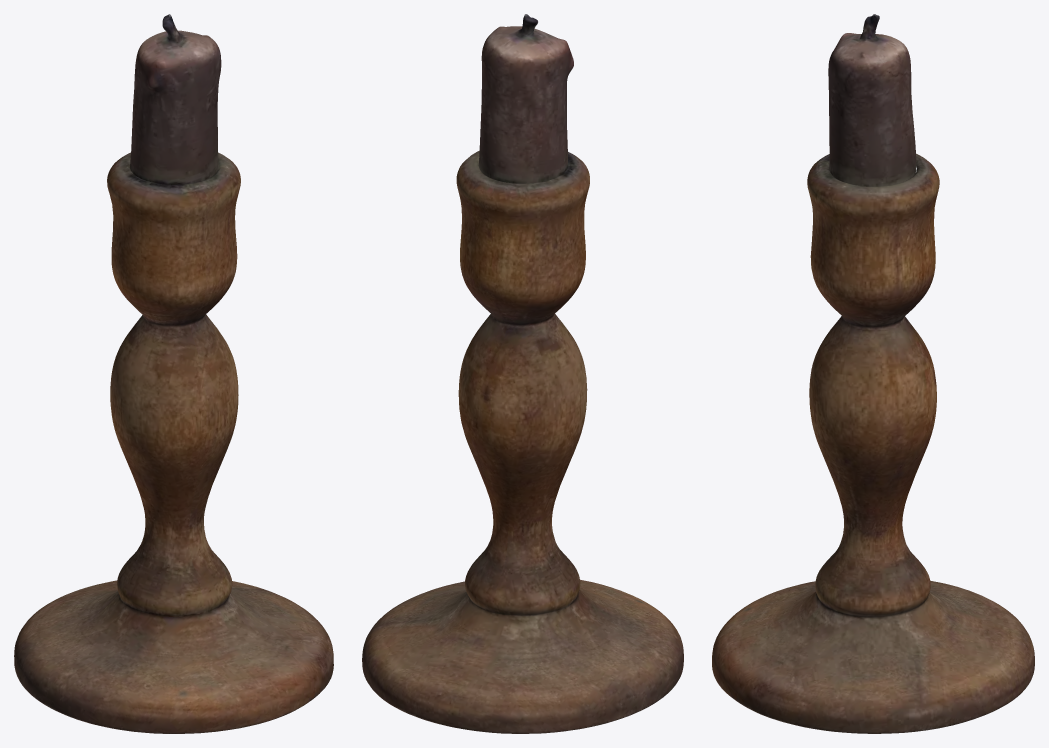
File: wooden_candlestick.glb
The picture shows the model from 3 angles, left to right: view 1: azimuth 30°, elevation 25°; view 2: azimuth 150°, elevation 25°; view 3: azimuth 270°, elevation 25°; orthographic projection.
Visible parts, largest first — view 1: wooden_candlestick; view 2: wooden_candlestick; view 3: wooden_candlestick.
Part boxes in pixels (<box>): wooden_candlestick: <box>14,14,333,733</box>; wooden_candlestick: <box>362,14,683,733</box>; wooden_candlestick: <box>712,14,1034,733</box>.
Bounding box in the file's own units: 0.0972 × 0.2197 × 0.0986.
Materials: 1 (1 with a texture image).
